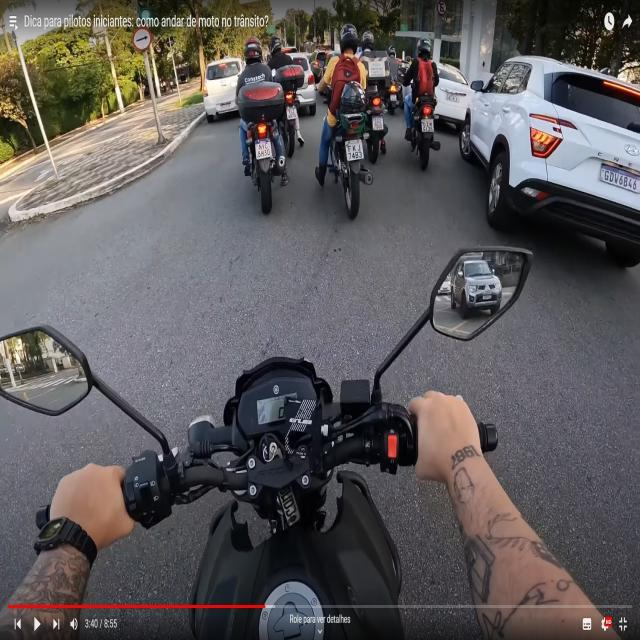placa_moto: (254, 138, 273, 159), (346, 141, 365, 161), (371, 112, 385, 132), (421, 116, 435, 133), (285, 105, 298, 122)
